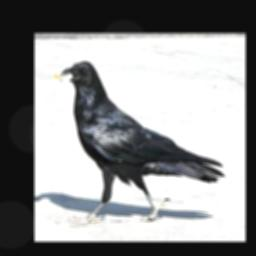Crow: (55, 60, 226, 224)
